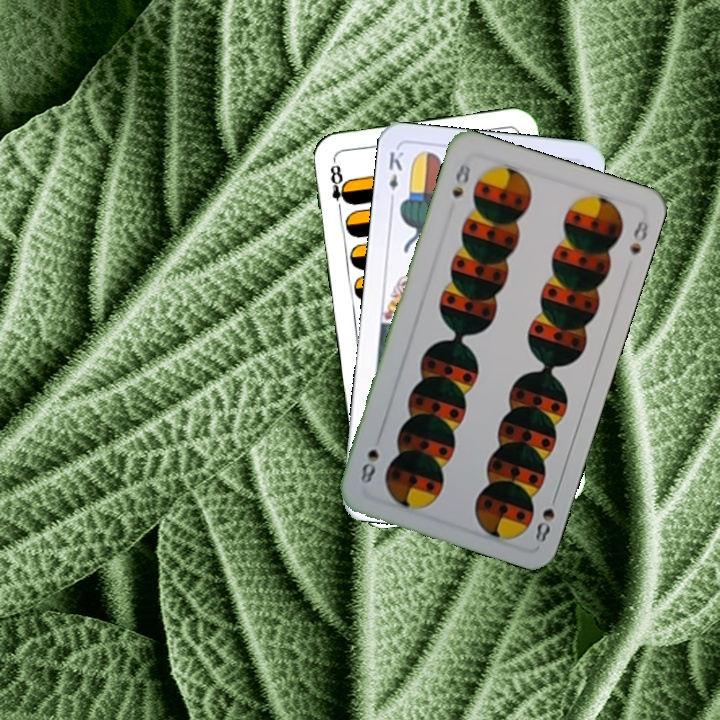E8: (326, 156, 353, 215)
EK: (384, 147, 406, 206)
S8: (531, 488, 561, 545), (448, 157, 474, 200)
